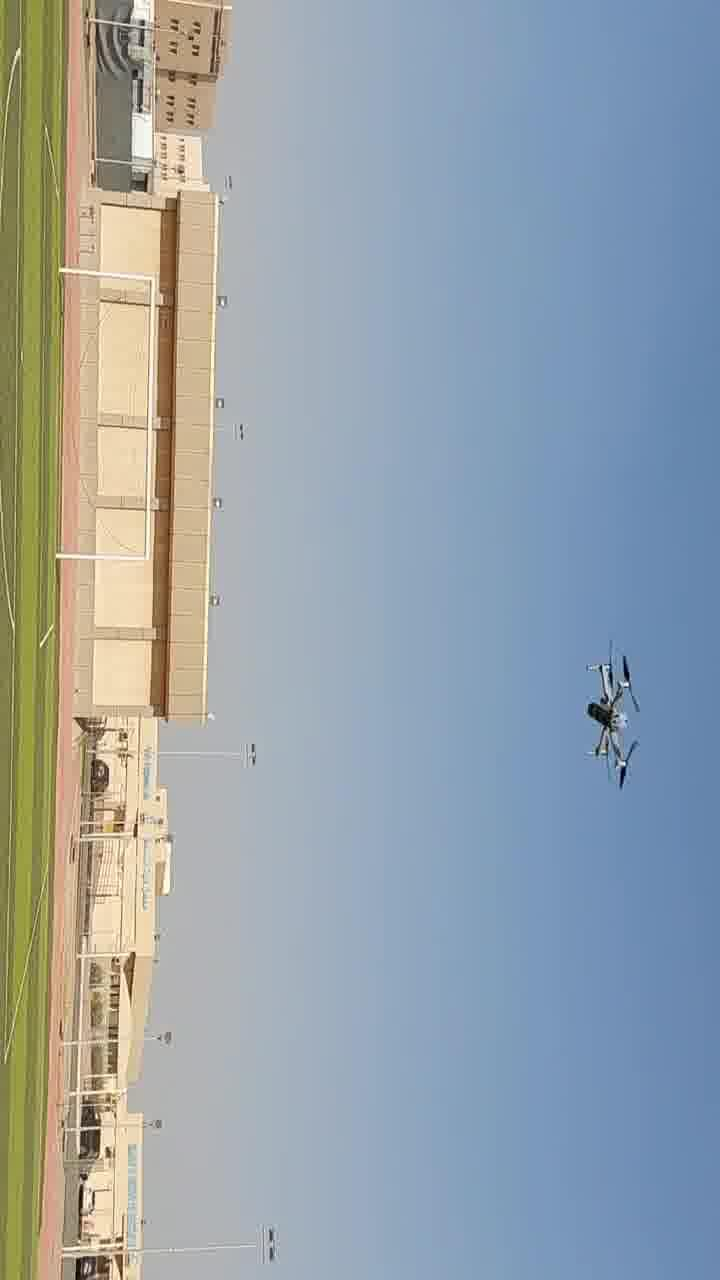drone: (362, 117, 443, 258)
